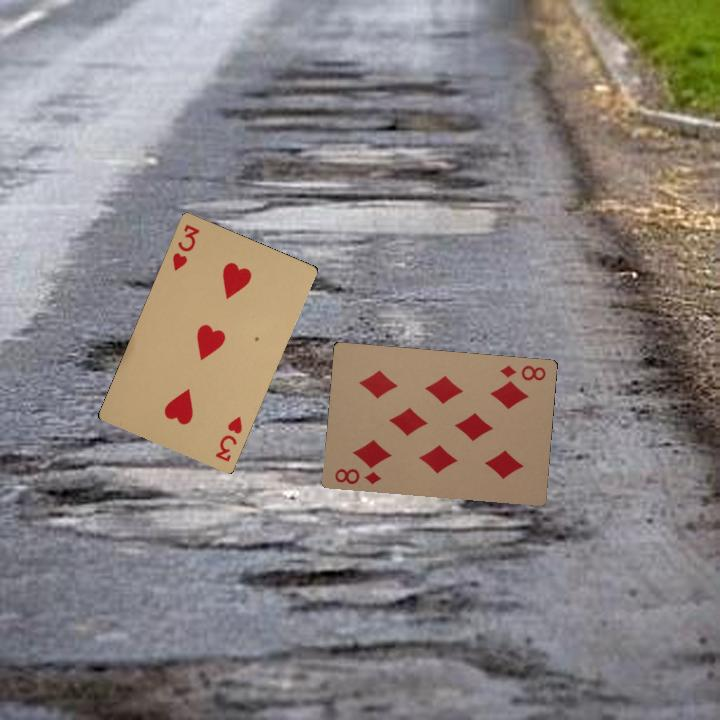3h: (168, 220, 202, 273), (211, 412, 245, 464)
8d: (331, 464, 384, 487), (496, 361, 548, 383)
